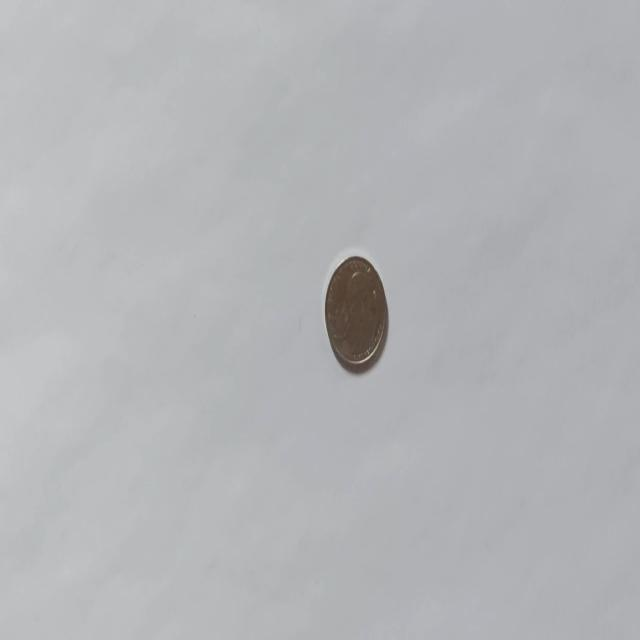seribu rupiah koin: (323, 252, 389, 372)
